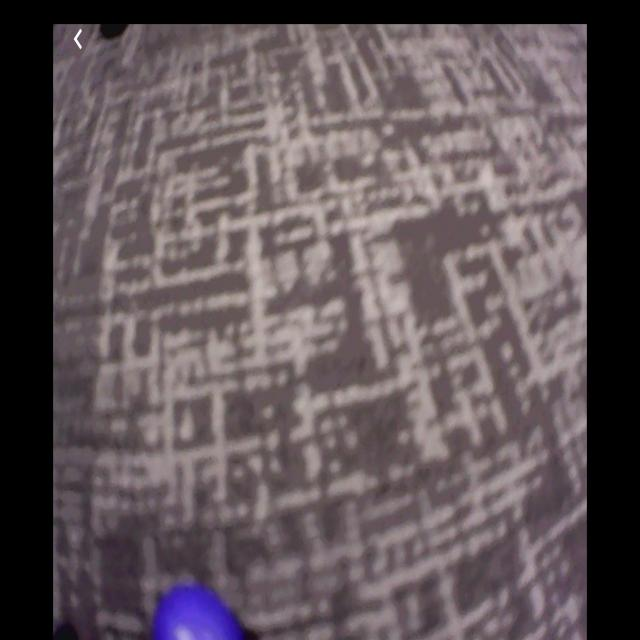ball: (151, 581, 247, 640)
